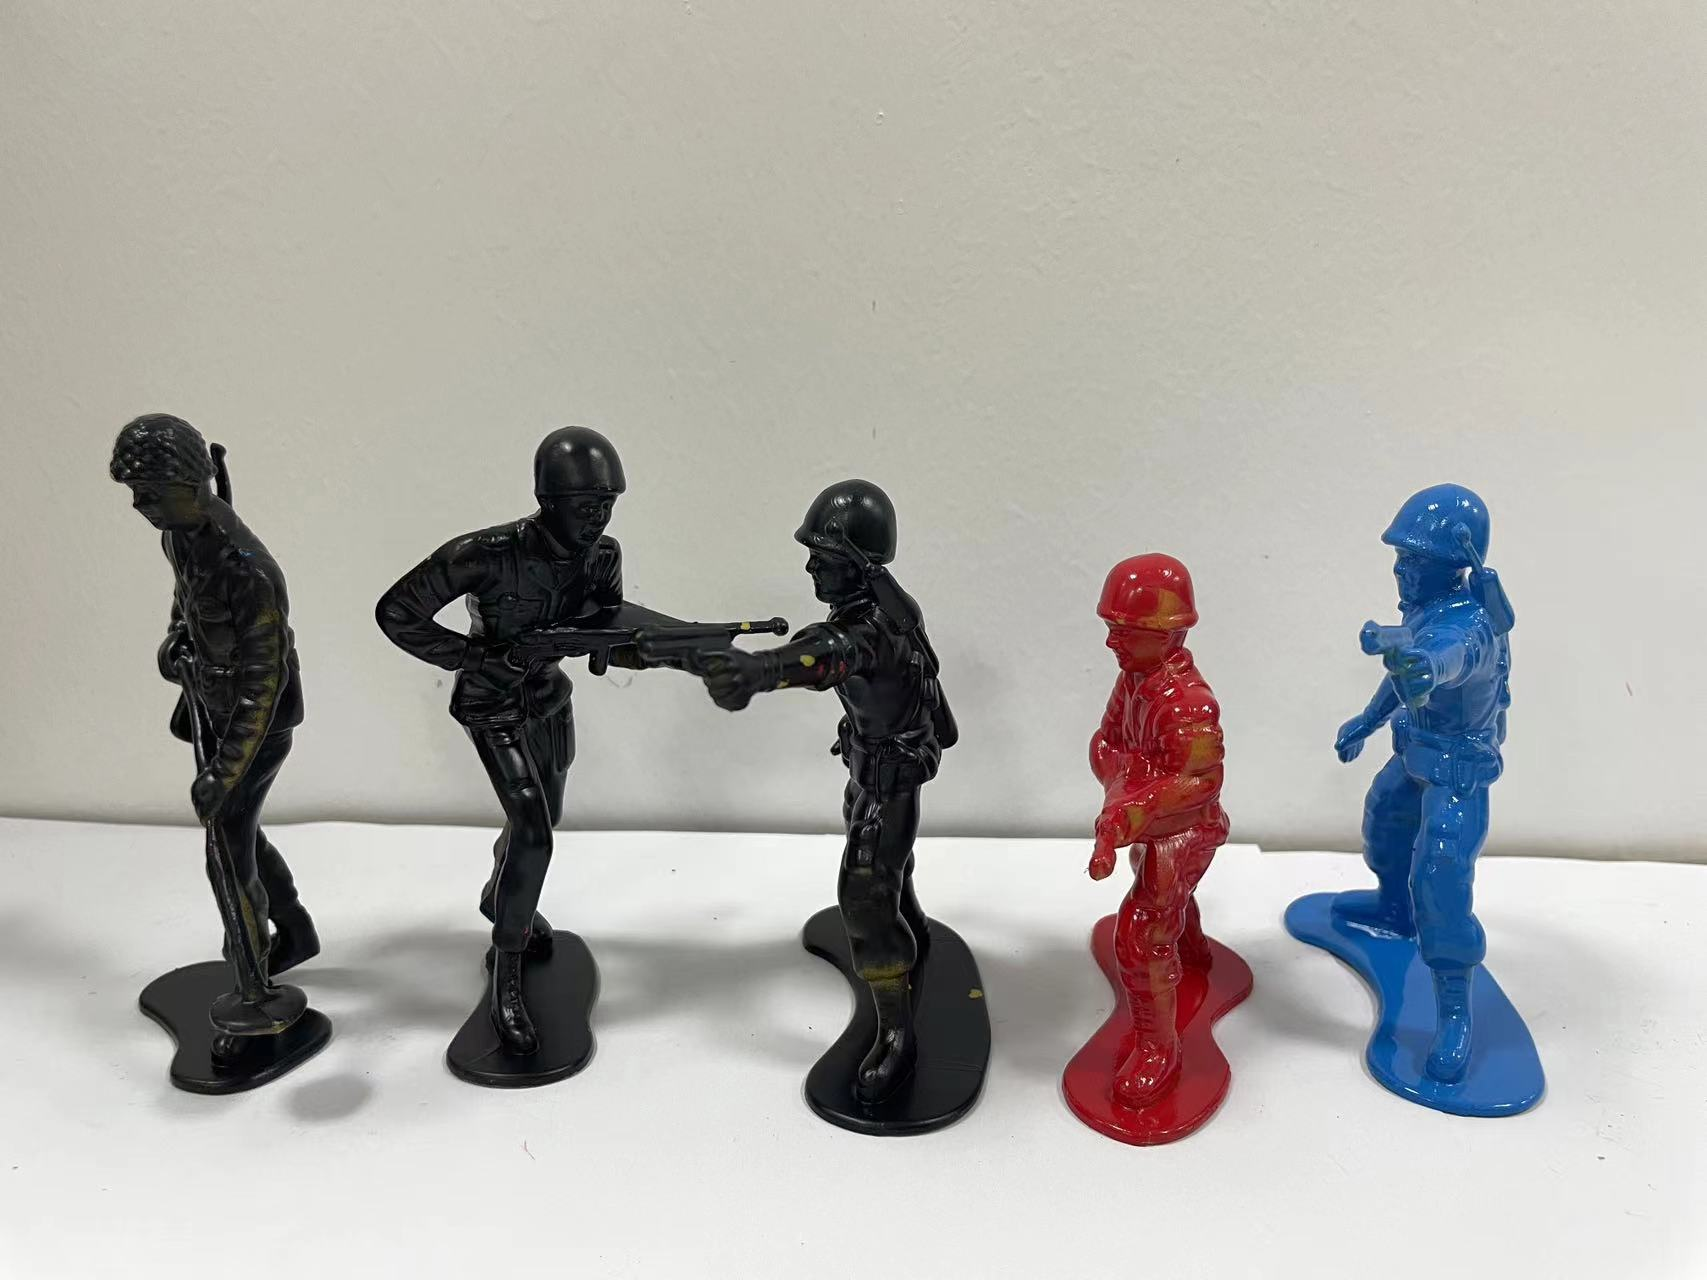black: (370, 394, 745, 1080), (48, 372, 376, 1111), (742, 463, 1013, 1155)
blue: (1266, 436, 1634, 1160)
red: (1055, 545, 1262, 1154)
